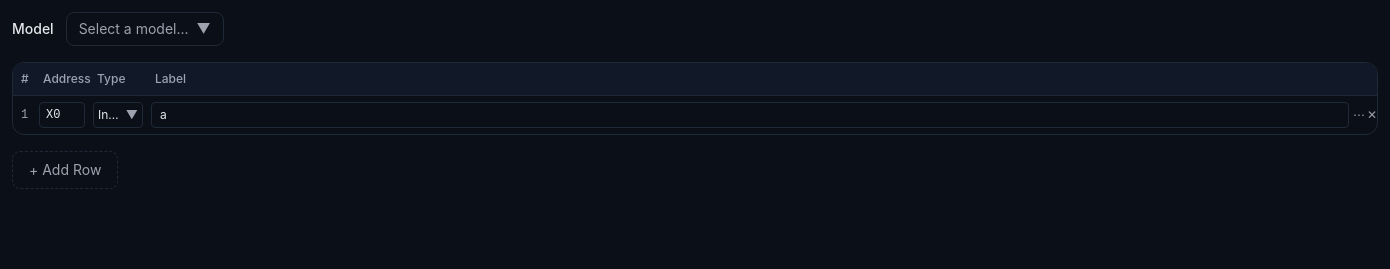
Test: IOMappingTable › expandable row (M12.1.2) › renders default/comment inputs in expandable row when ⋯ is clicked
Click the button with test id "io-more-0". click: {"x": 1359, "y": 115}
box: x1=1353 y1=103 x2=1365 y2=127
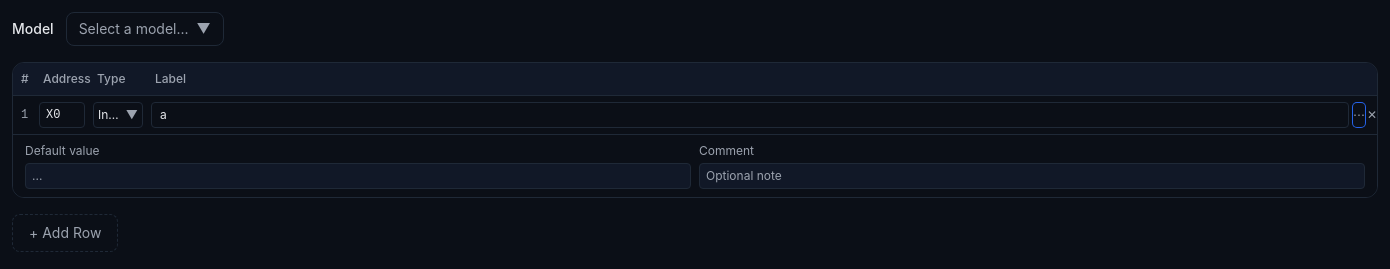
Now the row with test id "io-more-row-0" is shown, box x1=13 y1=134 x2=1377 y2=197
Now the field with test id "io-default-0" is shown, box x1=25 y1=163 x2=691 y2=189
Now the field with test id "io-comment-0" is shown, box x1=699 y1=163 x2=1365 y2=189
